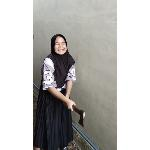Kapak: (64, 98, 88, 130)
